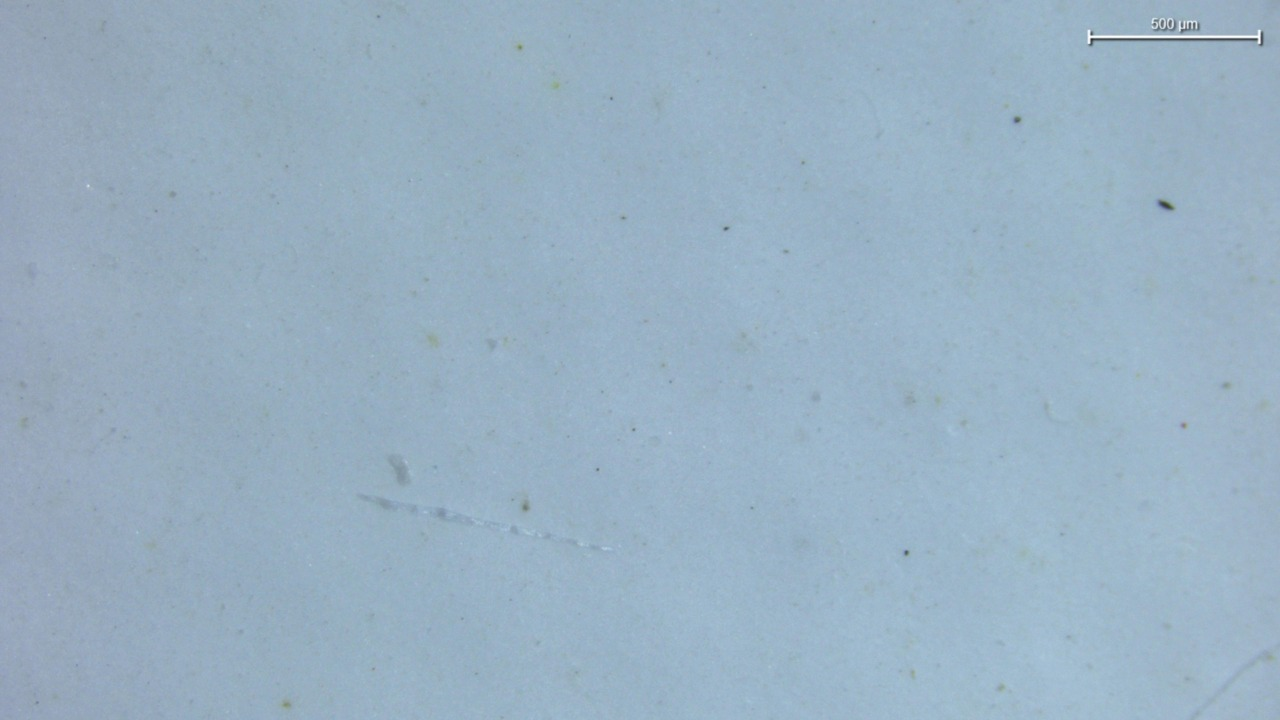microplastic_fragment: (387, 454, 410, 485)
